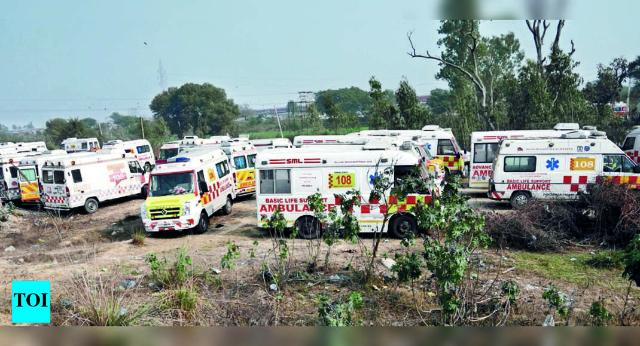ambulance: (252, 142, 449, 243), (492, 139, 640, 206), (138, 147, 238, 236), (40, 147, 154, 212)
